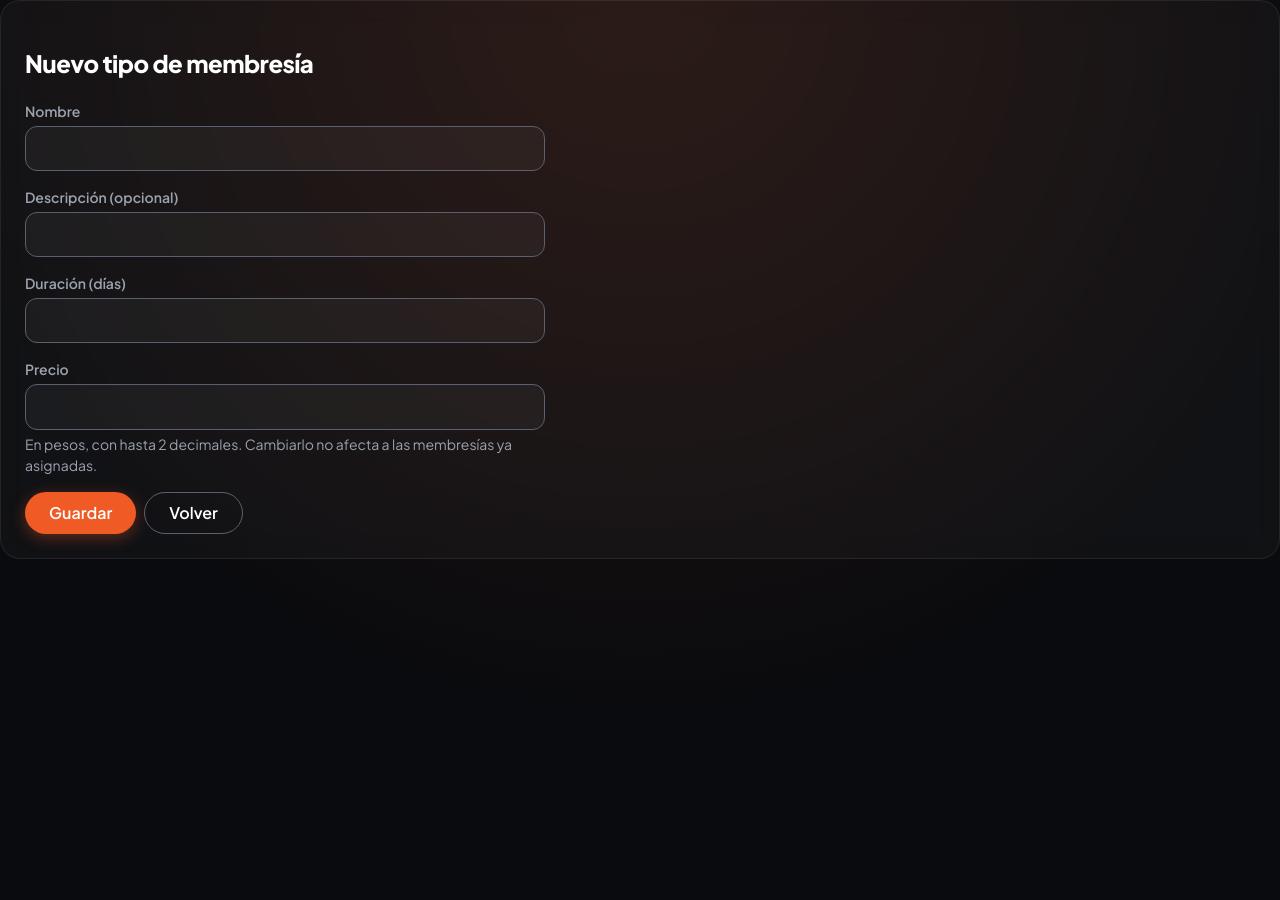
Test: formulario de tipos de membresía › marca_los_campos_obligatorios_sin_llamar_a_la_api
This screenshot has width=1280, height=900.
What coordinates should you click on to do the following:
click the button "Guardar"
I would click on:
 (81, 513)
Its box is top-left (25, 492), bottom-right (136, 534).
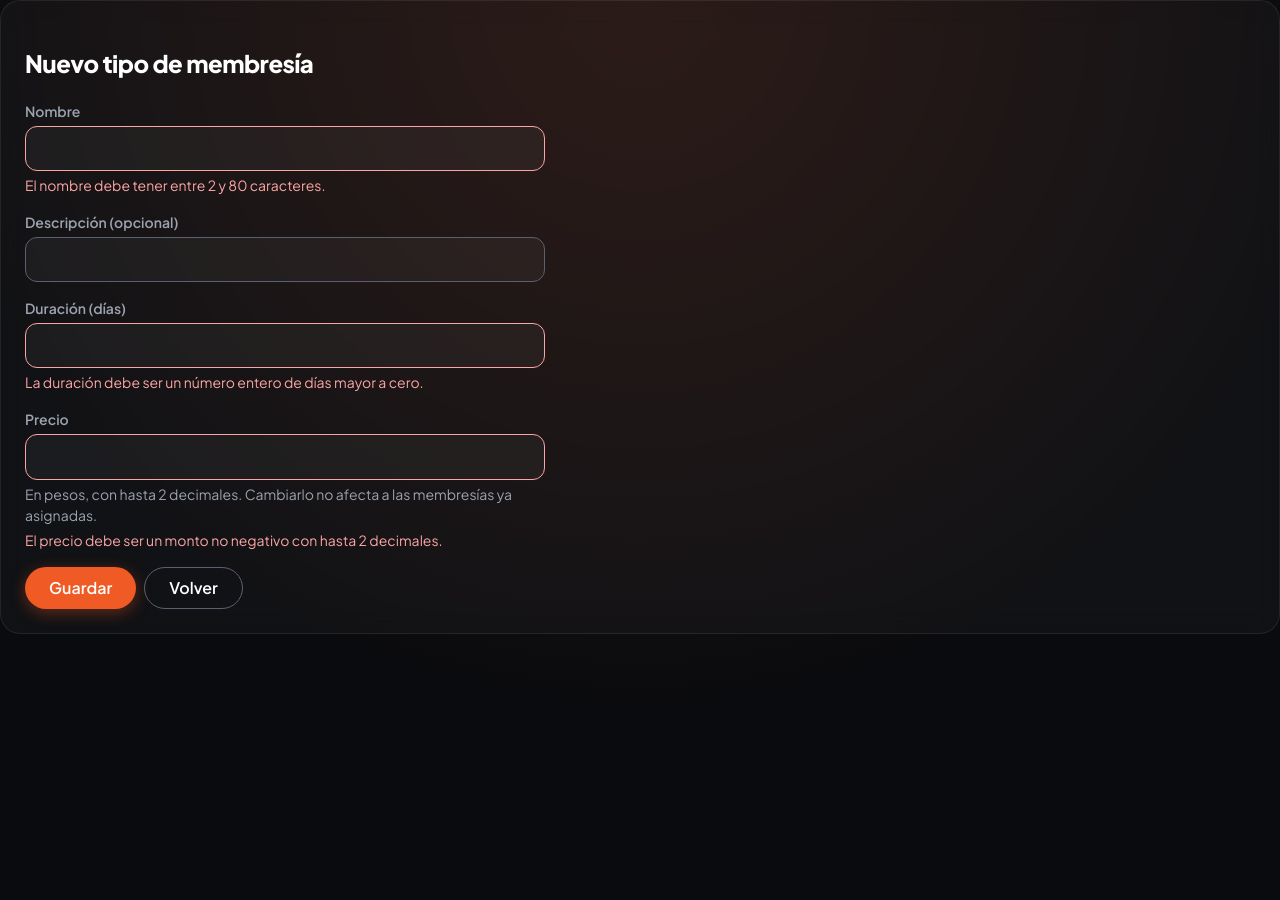
Now the text "El nombre debe tener entre 2 y 80 caracteres." is shown, box top-left (25, 176), bottom-right (325, 194)
Now the text "La duración debe ser un número entero de días mayor a cero." is shown, box top-left (25, 373), bottom-right (424, 391)
Now the text "El precio debe ser un monto no negativo con hasta 2 decimales." is shown, box top-left (25, 531), bottom-right (443, 549)
